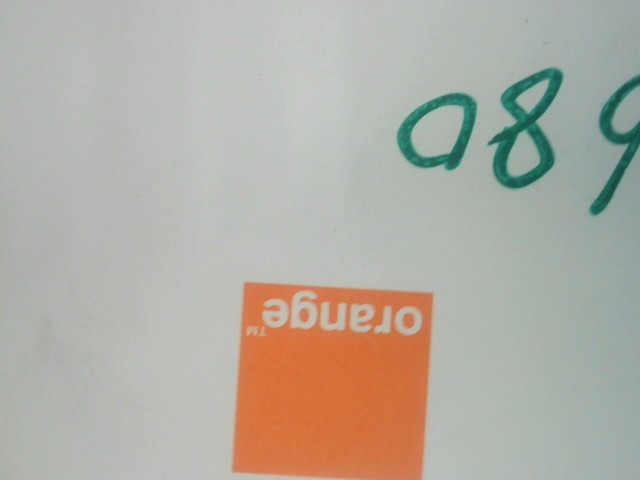AR_Orange: (213, 265, 450, 479)
